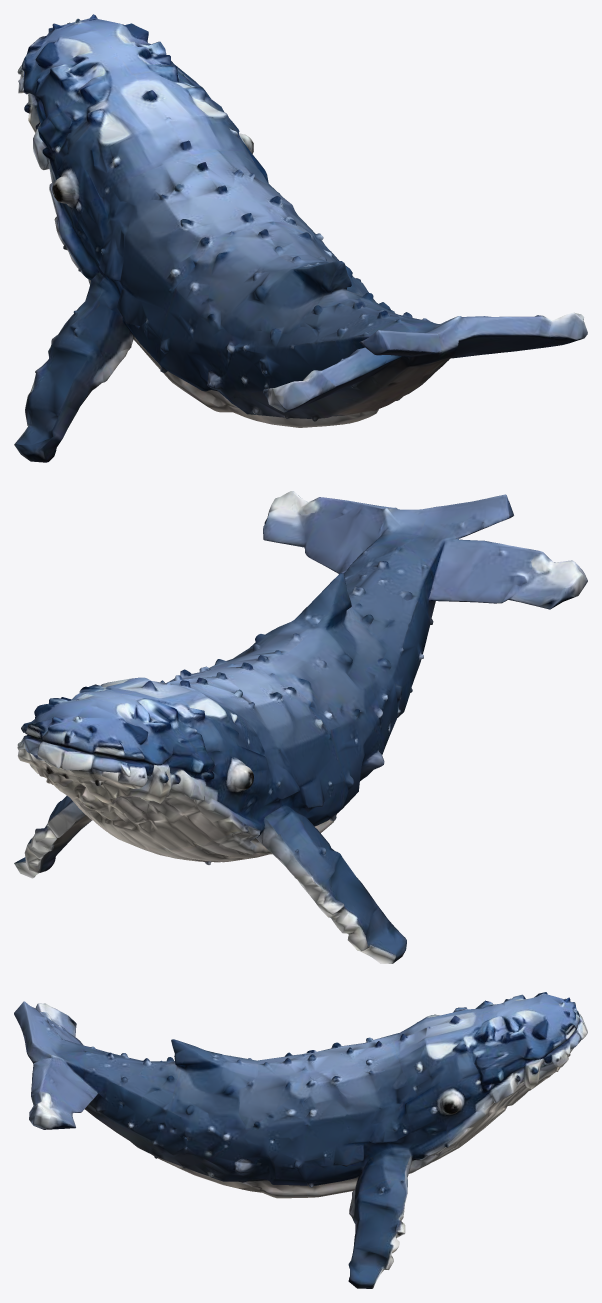
The model's file is whale.glb.
3 renders of one model, top to bottom at view 1: azimuth 30°, elevation 25°; view 2: azimuth 150°, elevation 25°; view 3: azimuth 270°, elevation 25°, orthographic. The views are drawn at different scales.
Parts seen in each view (by area): view 1: tripo_node_da8cd909-8456-4b2d-a704-45c6c071f435; view 2: tripo_node_da8cd909-8456-4b2d-a704-45c6c071f435; view 3: tripo_node_da8cd909-8456-4b2d-a704-45c6c071f435.
Boxes of the visible parts, left/top/right/bottom form: tripo_node_da8cd909-8456-4b2d-a704-45c6c071f435: left=14, top=14, right=587, bottom=462; tripo_node_da8cd909-8456-4b2d-a704-45c6c071f435: left=14, top=491, right=587, bottom=963; tripo_node_da8cd909-8456-4b2d-a704-45c6c071f435: left=14, top=992, right=587, bottom=1288.
Size of the model in its own units: 0.5673 by 0.4255 by 0.9995.
1 material, 1 textured.
